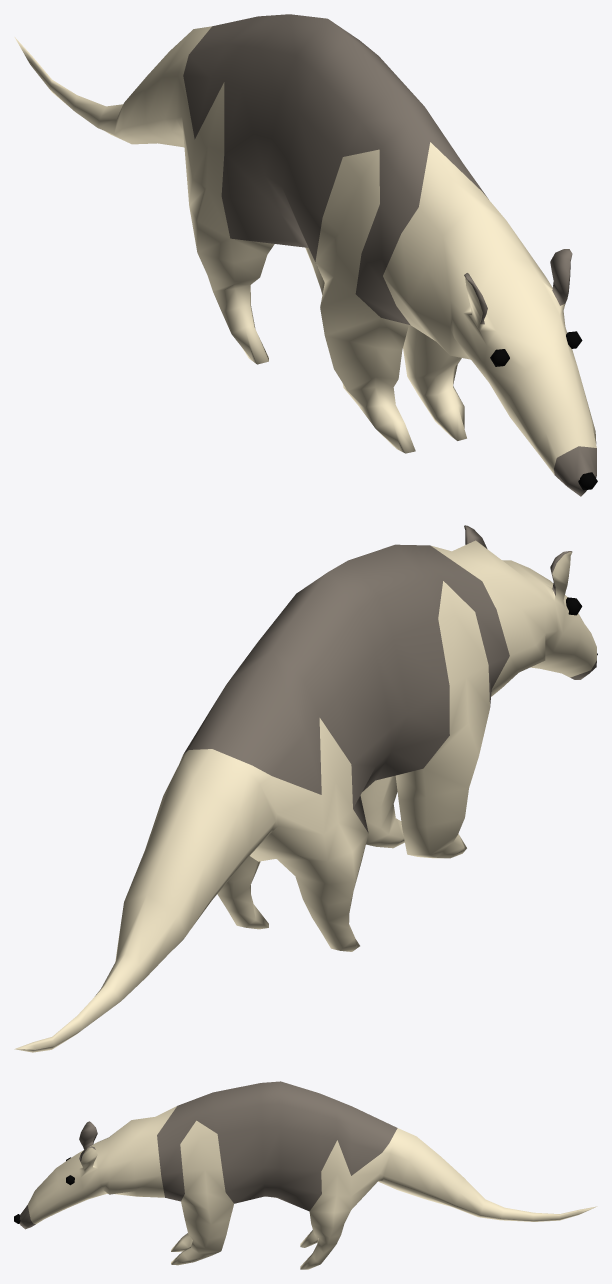
Rendered from anteater.fbx.
3 renders of one model, top to bottom at view 1: azimuth 30°, elevation 25°; view 2: azimuth 150°, elevation 25°; view 3: azimuth 270°, elevation 25°, orthographic. The views are drawn at different scales.
Visible parts, largest first — view 1: node-0; view 2: node-0; view 3: node-0.
Part boxes in pixels (<box>): node-0: <box>14,14,597,496</box>; node-0: <box>14,525,597,1052</box>; node-0: <box>14,1081,597,1269</box>.
Size of the model in its own units: 10012 by 20941 by 63068.
